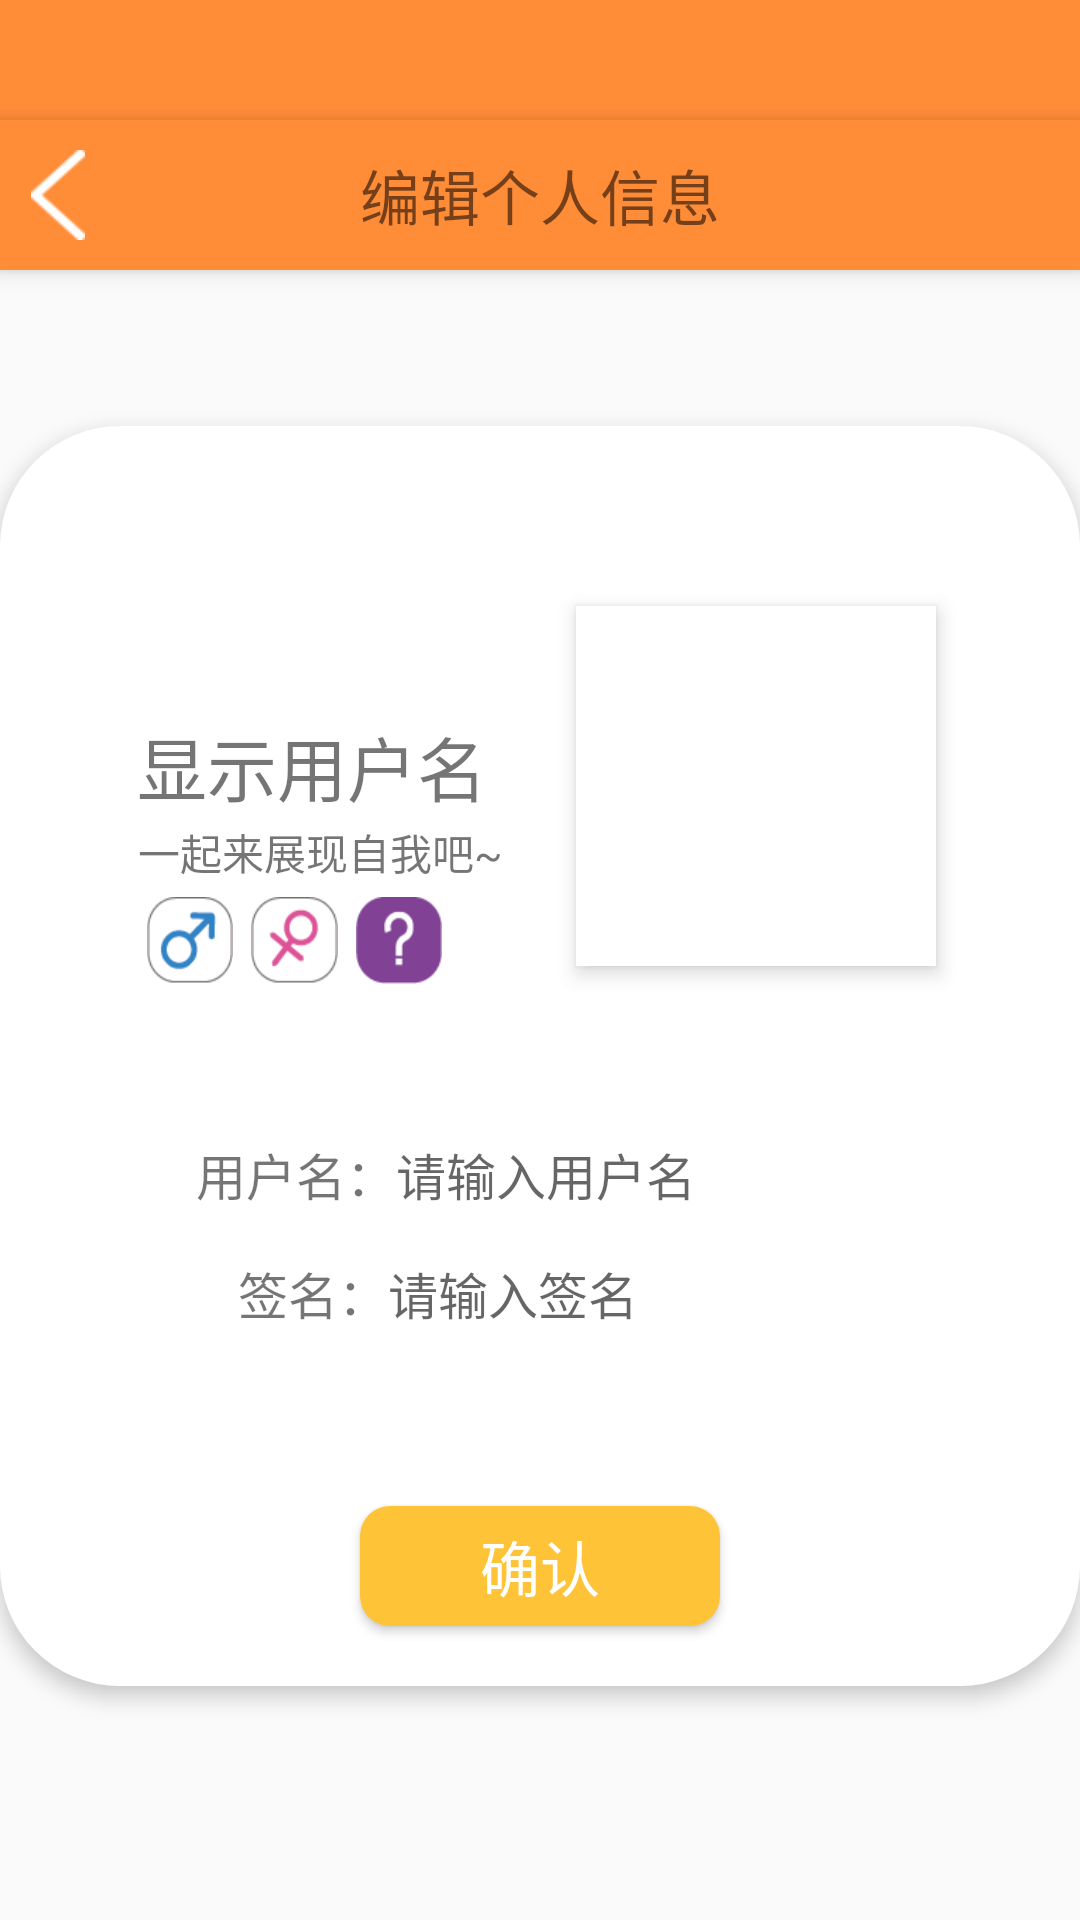

Icons on this 1080px×1920px Android screen, each with its box as region(x1, y1, x2, y2):
isfemale no: region(251, 897, 338, 983)
ismale no: region(147, 897, 233, 983)
